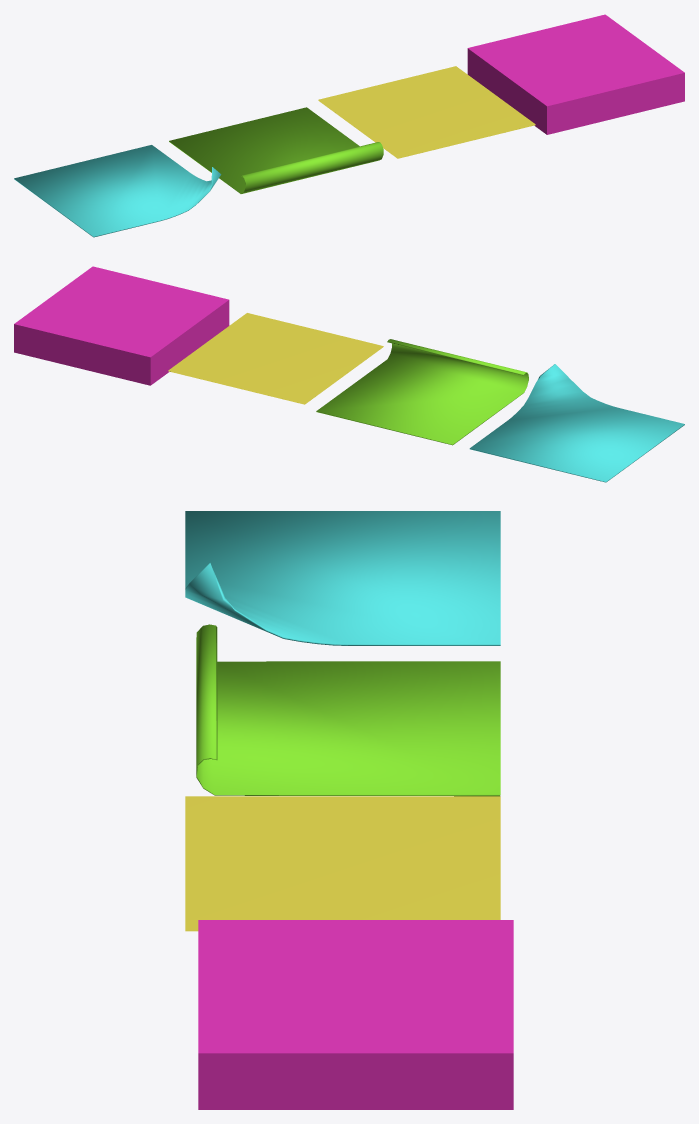
The model's file is Posits.fbx.
3 views of the same model, one above another, from view 1: azimuth 30°, elevation 25°; view 2: azimuth 150°, elevation 25°; view 3: azimuth 270°, elevation 25° (orthographic). The views are drawn at different scales.
Parts seen in each view (by area): view 1: Posits, Posits.001, Posits.003, Posits.002; view 2: Posits, Posits.002, Posits.003, Posits.001; view 3: Posits, Posits.002, Posits.003, Posits.001.
Part boxes in pixels (<box>): Posits: <box>467,14,684,134</box>; Posits.001: <box>318,66,535,158</box>; Posits.003: <box>14,145,221,237</box>; Posits.002: <box>169,107,383,193</box>; Posits: <box>14,266,229,385</box>; Posits.002: <box>316,339,528,445</box>; Posits.003: <box>469,364,684,482</box>; Posits.001: <box>168,313,383,404</box>; Posits: <box>198,920,513,1109</box>; Posits.002: <box>196,624,500,796</box>; Posits.003: <box>185,511,500,645</box>; Posits.001: <box>185,796,500,931</box>.
Size of the model in its own units: 196 by 14.82 by 47.39.
